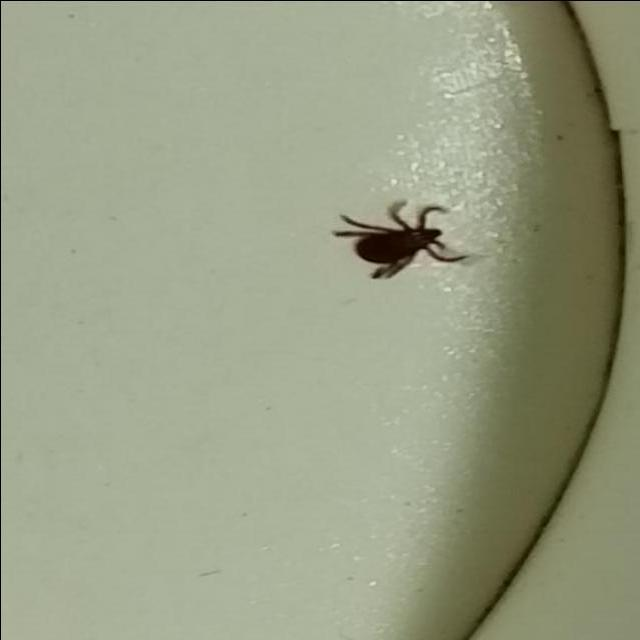Rhipicephalus Sanguineus-M: (329, 198, 470, 278)
